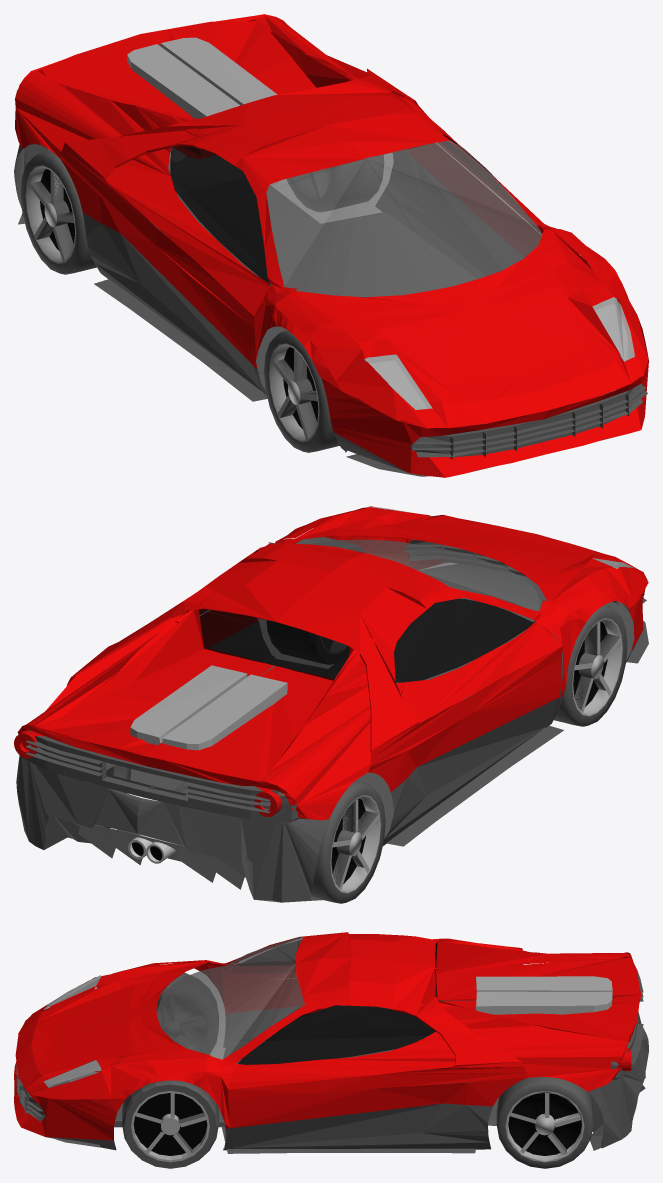
3 views of the same model, one above another, from view 1: azimuth 30°, elevation 25°; view 2: azimuth 150°, elevation 25°; view 3: azimuth 270°, elevation 25° (orthographic). The views are drawn at different scales.
Parts seen in each view (by area): view 1: Chassis, RR_Wheel, FR_Wheel, RL_Wheel; view 2: Chassis, RR_Wheel, FR_Wheel, FL_Wheel; view 3: Chassis, RL_Wheel, FL_Wheel, FR_Wheel.
Part boxes in pixels (bbox=[...]): Chassis: bbox=[14, 14, 648, 477]; RR_Wheel: bbox=[20, 151, 123, 274]; FR_Wheel: bbox=[264, 330, 339, 452]; RL_Wheel: bbox=[287, 155, 383, 211]; Chassis: bbox=[14, 506, 648, 902]; RR_Wheel: bbox=[311, 780, 385, 903]; FR_Wheel: bbox=[533, 605, 627, 726]; FL_Wheel: bbox=[267, 537, 364, 664]; Chassis: bbox=[14, 932, 648, 1153]; RL_Wheel: bbox=[496, 1077, 593, 1168]; FL_Wheel: bbox=[122, 1080, 218, 1168]; FR_Wheel: bbox=[156, 972, 218, 1054].
Bounding box in the file's own units: 4.4 × 2.68 × 9.94.
